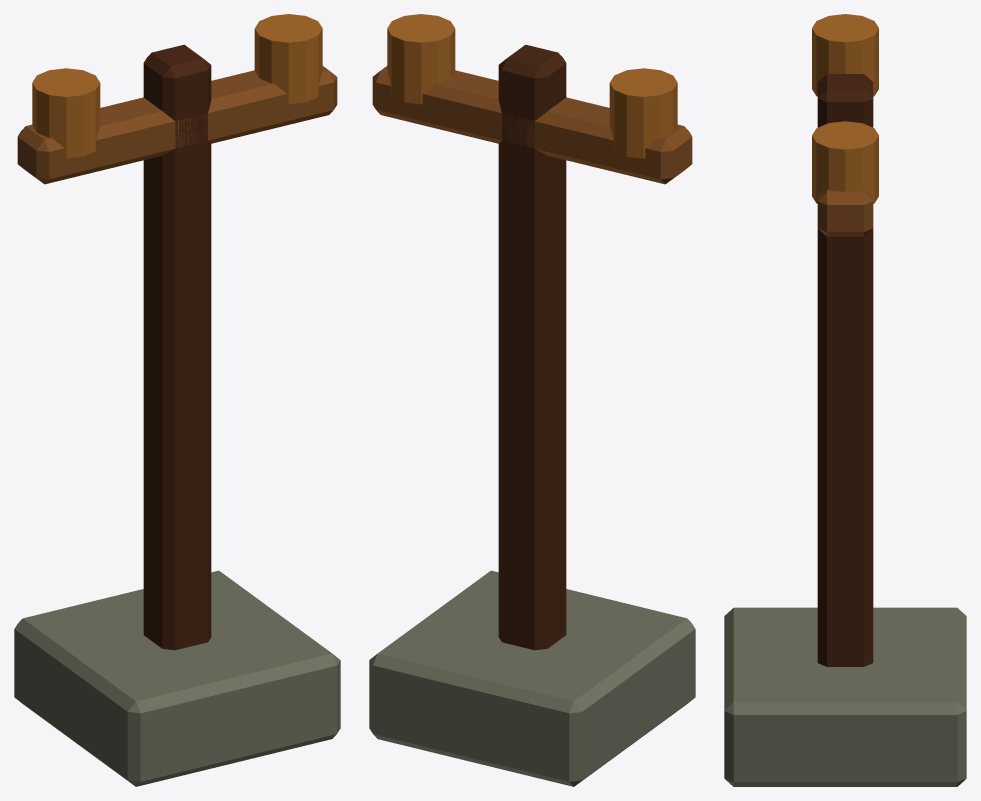
Rendered from post.glb.
The picture shows the model from 3 angles, left to right: view 1: azimuth 30°, elevation 25°; view 2: azimuth 150°, elevation 25°; view 3: azimuth 270°, elevation 25°; orthographic projection.
Parts seen in each view (by area): view 1: post_body; view 2: post_body; view 3: post_body.
Boxes of the visible parts, left/top/right/bottom form: post_body: left=14, top=14, right=340, bottom=786; post_body: left=369, top=14, right=695, bottom=786; post_body: left=724, top=14, right=966, bottom=786.
Size of the model in its own units: 0.92 by 1.95 by 0.65.
